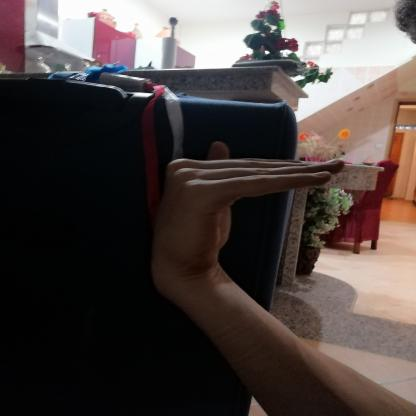KHAA: (131, 128, 366, 300)
